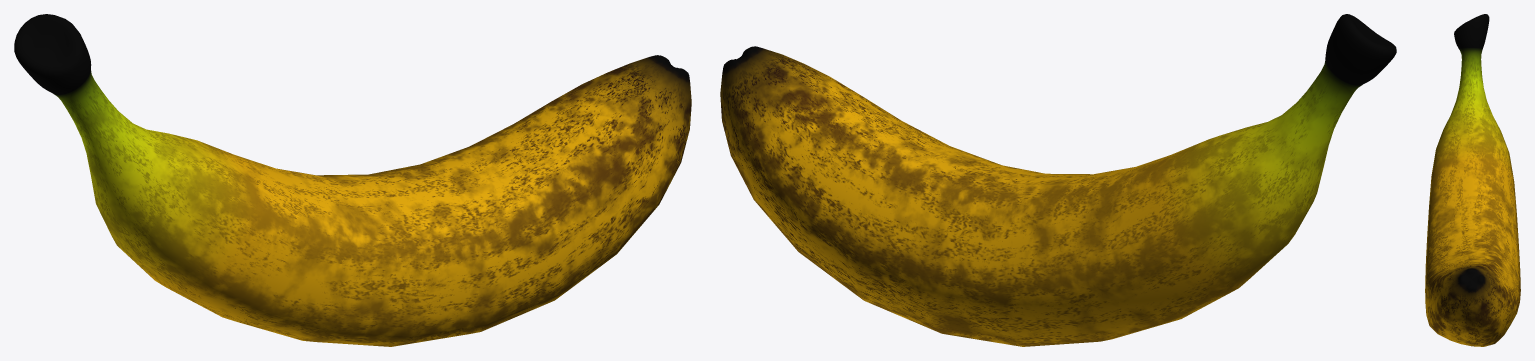
The model's file is Banana v2.glb.
3 views of the same model, side by side, from view 1: azimuth 30°, elevation 25°; view 2: azimuth 150°, elevation 25°; view 3: azimuth 270°, elevation 25° (orthographic). The views are drawn at different scales.
Parts seen in each view (by area): view 1: bake; view 2: bake; view 3: bake.
Boxes of the visible parts, box(x1,y1,x2,y2) form: bake: box(14, 14, 691, 346); bake: box(720, 14, 1396, 346); bake: box(1425, 14, 1520, 346).
Bounding box in the file's own units: 0.6212 × 0.3592 × 0.1444.
Materials: 1 (1 with a texture image).
